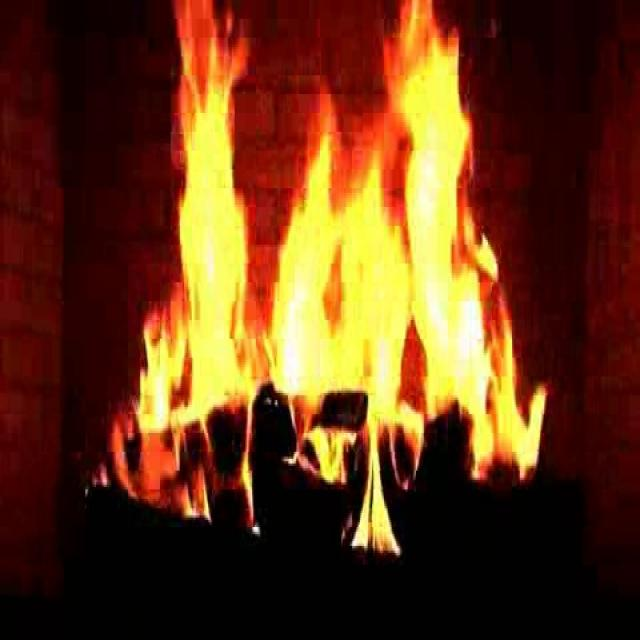Fire: (96, 8, 547, 538)
